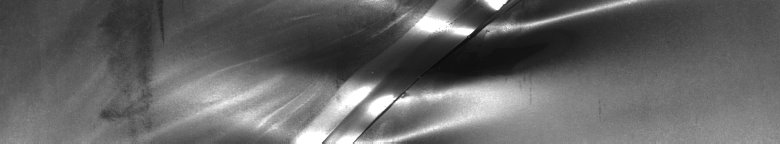ke: (258, 4, 640, 136)
